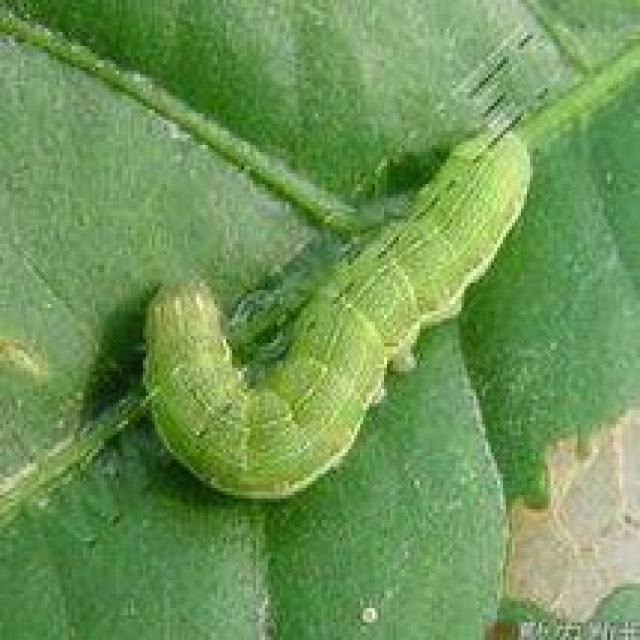BeetArmyWorm-Larva-: (138, 125, 540, 516)
